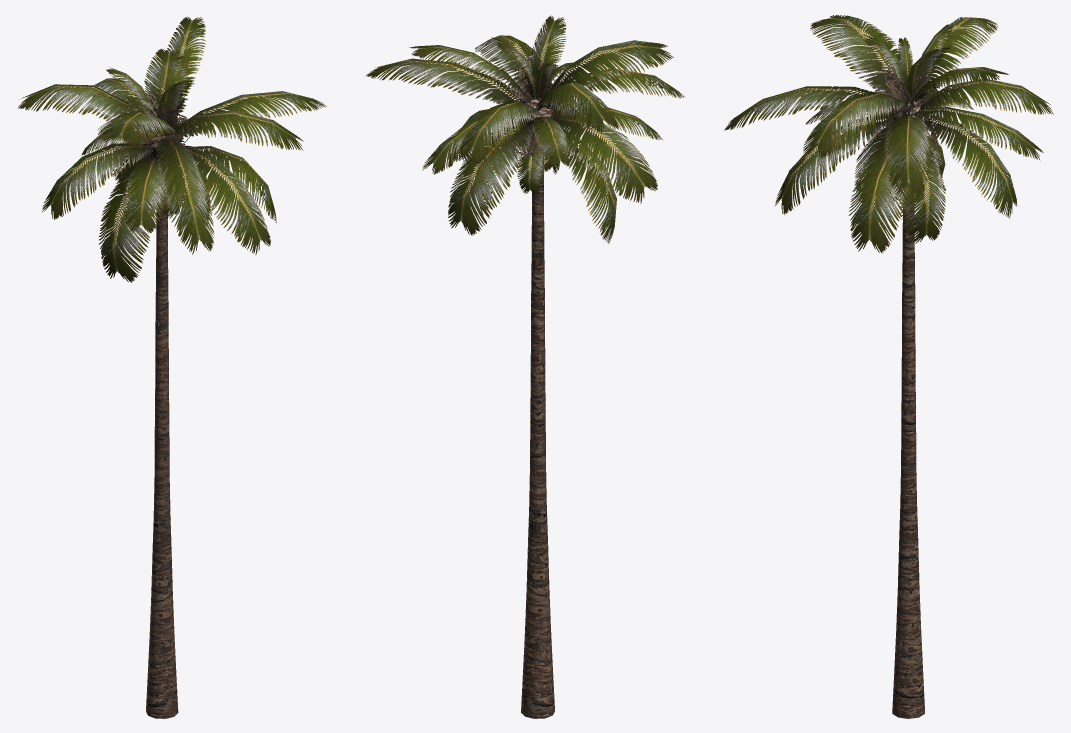
File: palmtree.dae
The picture shows the model from 3 angles, left to right: view 1: azimuth 30°, elevation 25°; view 2: azimuth 150°, elevation 25°; view 3: azimuth 270°, elevation 25°; orthographic projection. The views are drawn at different scales.
Visible parts, largest first — view 1: palm_tree; view 2: palm_tree; view 3: palm_tree.
Boxes of the visible parts, <box> form: palm_tree: <box>18,16,326,718</box>; palm_tree: <box>365,15,685,718</box>; palm_tree: <box>724,15,1053,718</box>.
Bounding box in the file's own units: 198 × 440 × 198.
Materials: 1 (1 with a texture image).
